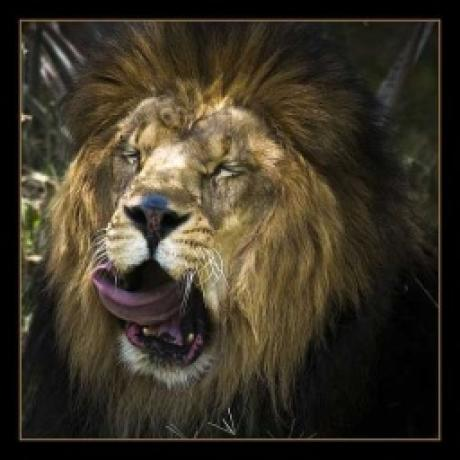Lion: (29, 19, 434, 432)
